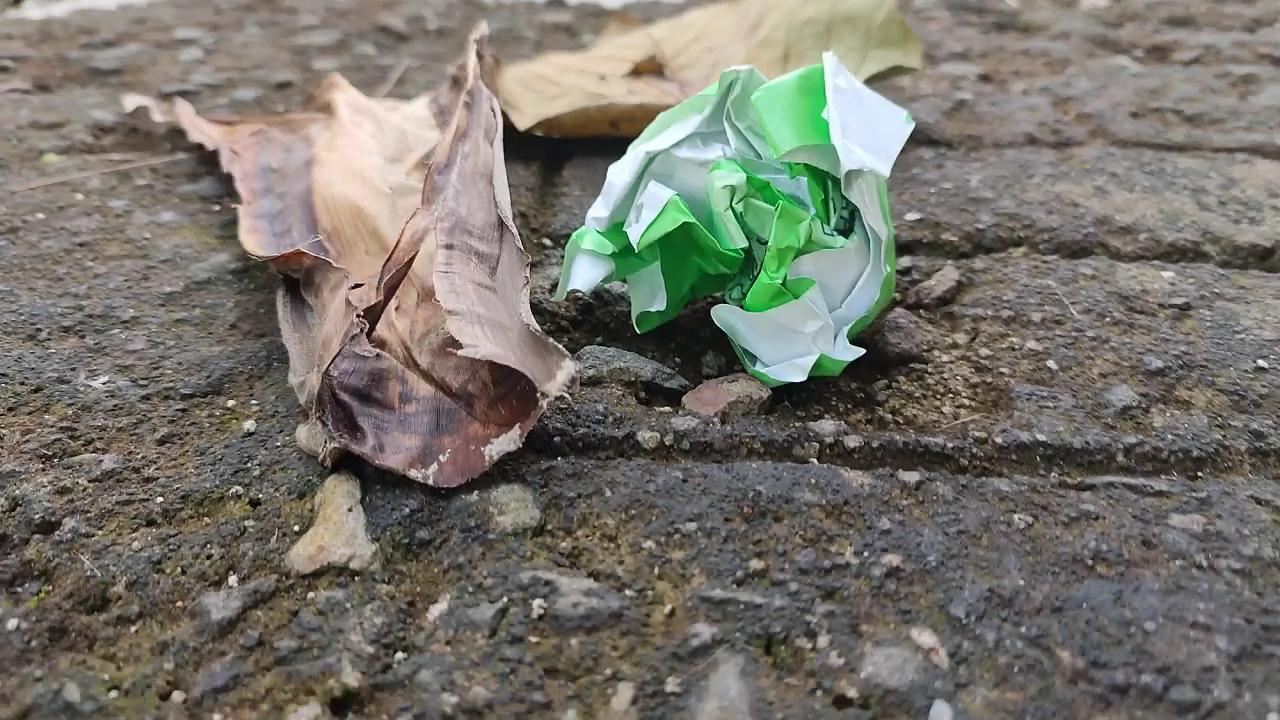Paper: (548, 35, 914, 395)
